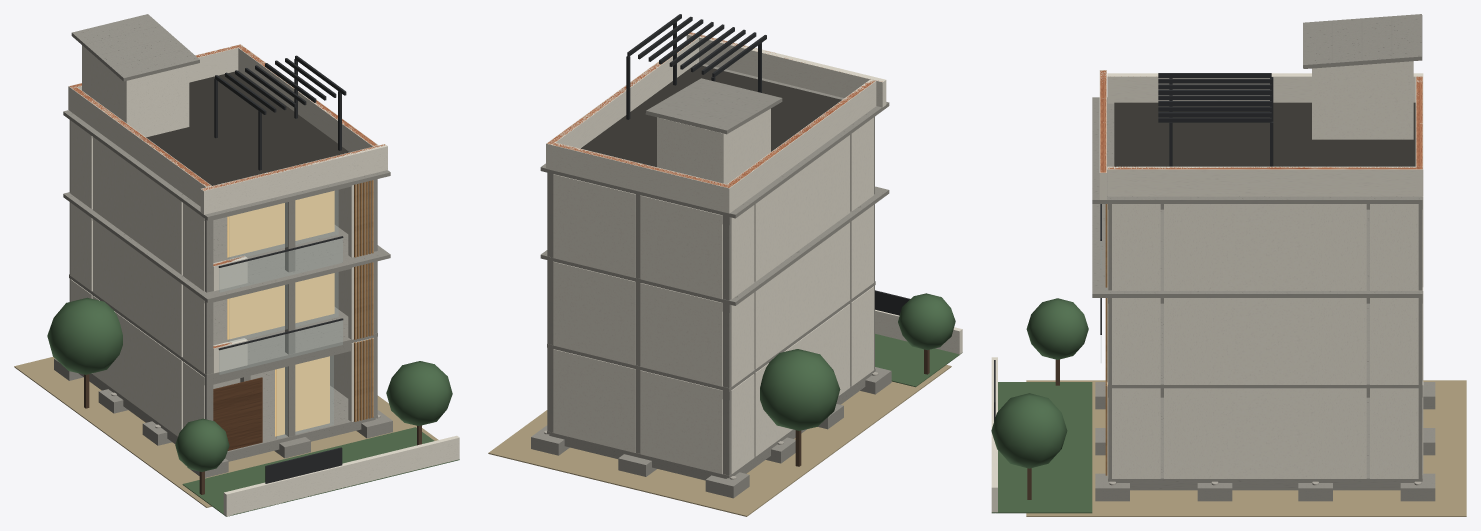
File: phase-6.glb
3 views of the same model, side by side, from view 1: azimuth 30°, elevation 25°; view 2: azimuth 150°, elevation 25°; view 3: azimuth 270°, elevation 25° (orthographic). The views are drawn at different scales.
Size of the model in its own units: 11.14 by 13.63 by 15.11.
14 materials, 5 textured.
